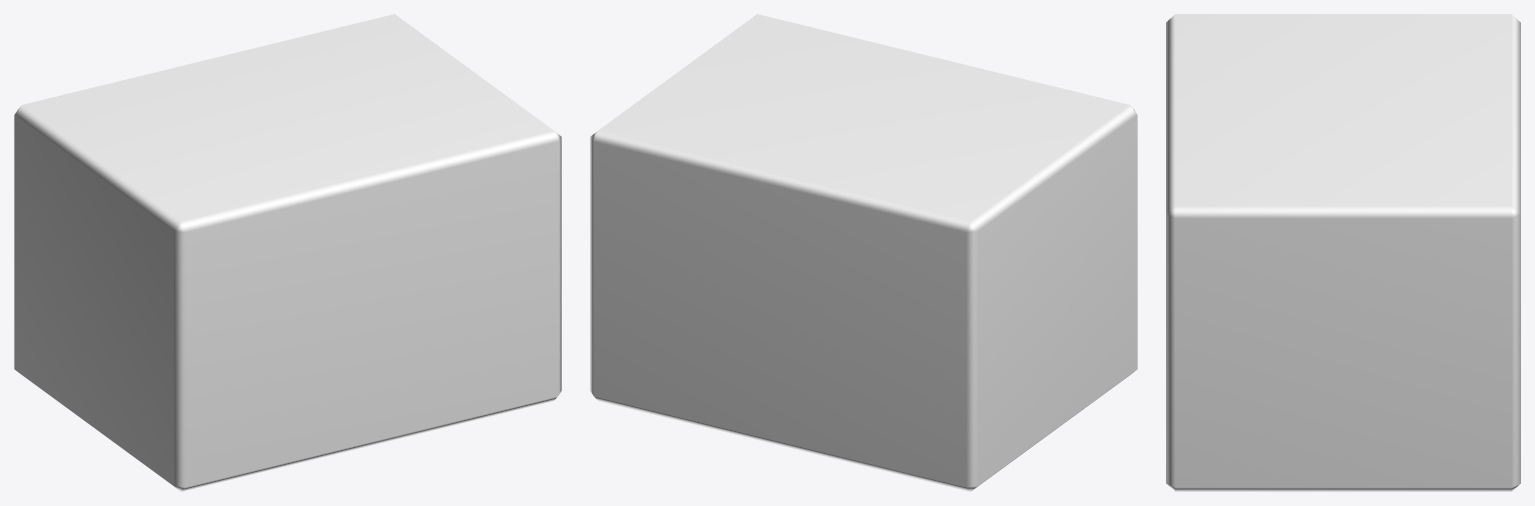
Rendered from parcel.glb.
3 views of the same model, side by side, from view 1: azimuth 30°, elevation 25°; view 2: azimuth 150°, elevation 25°; view 3: azimuth 270°, elevation 25° (orthographic). The views are drawn at different scales.
Parts seen in each view (by area): view 1: Parcel; view 2: Parcel; view 3: Parcel.
Part boxes in pixels (box(x1,y1,x2,y2)): Parcel: box(14, 14, 561, 491); Parcel: box(590, 14, 1137, 491); Parcel: box(1166, 14, 1520, 491).
Size of the model in its own units: 0.6 by 0.4 by 0.45.
Materials: 1 (1 with a texture image).
